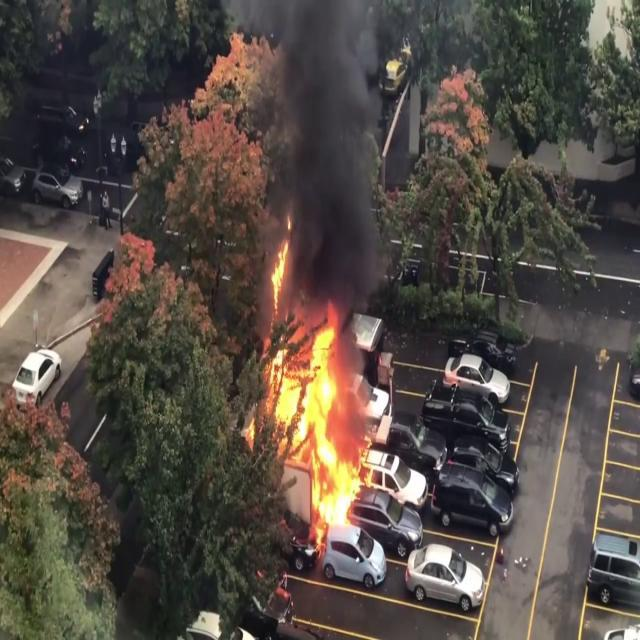Fire: (255, 237, 372, 543)
Smoke: (255, 0, 402, 303)
